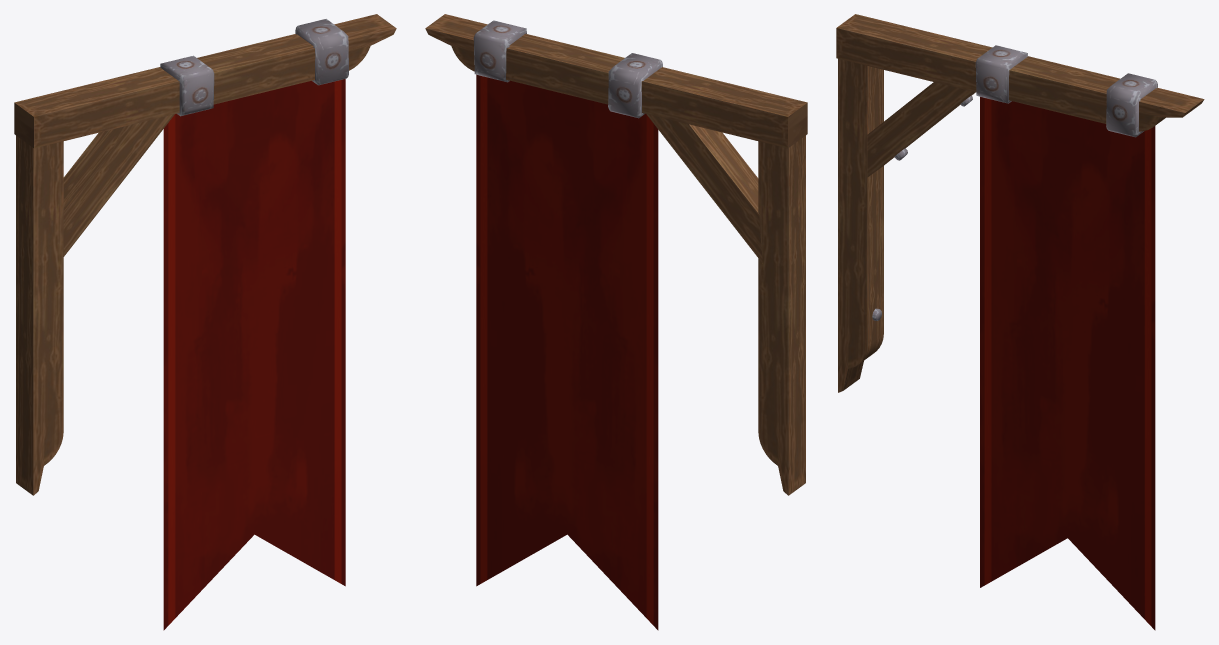
File: Banner_1.gltf
3 renders of one model, left to right at view 1: azimuth 30°, elevation 25°; view 2: azimuth 150°, elevation 25°; view 3: azimuth 330°, elevation 25°, orthographic. The views are drawn at different scales.
Visible parts, largest first — view 1: Banner_1; view 2: Banner_1; view 3: Banner_1.
Boxes of the visible parts, left/top/right/bottom form: Banner_1: left=14, top=14, right=396, bottom=630; Banner_1: left=425, top=14, right=807, bottom=630; Banner_1: left=836, top=14, right=1204, bottom=630.
Size of the model in its own units: 1.61 by 2.39 by 0.1906.
Materials: 3 (3 with a texture image).
